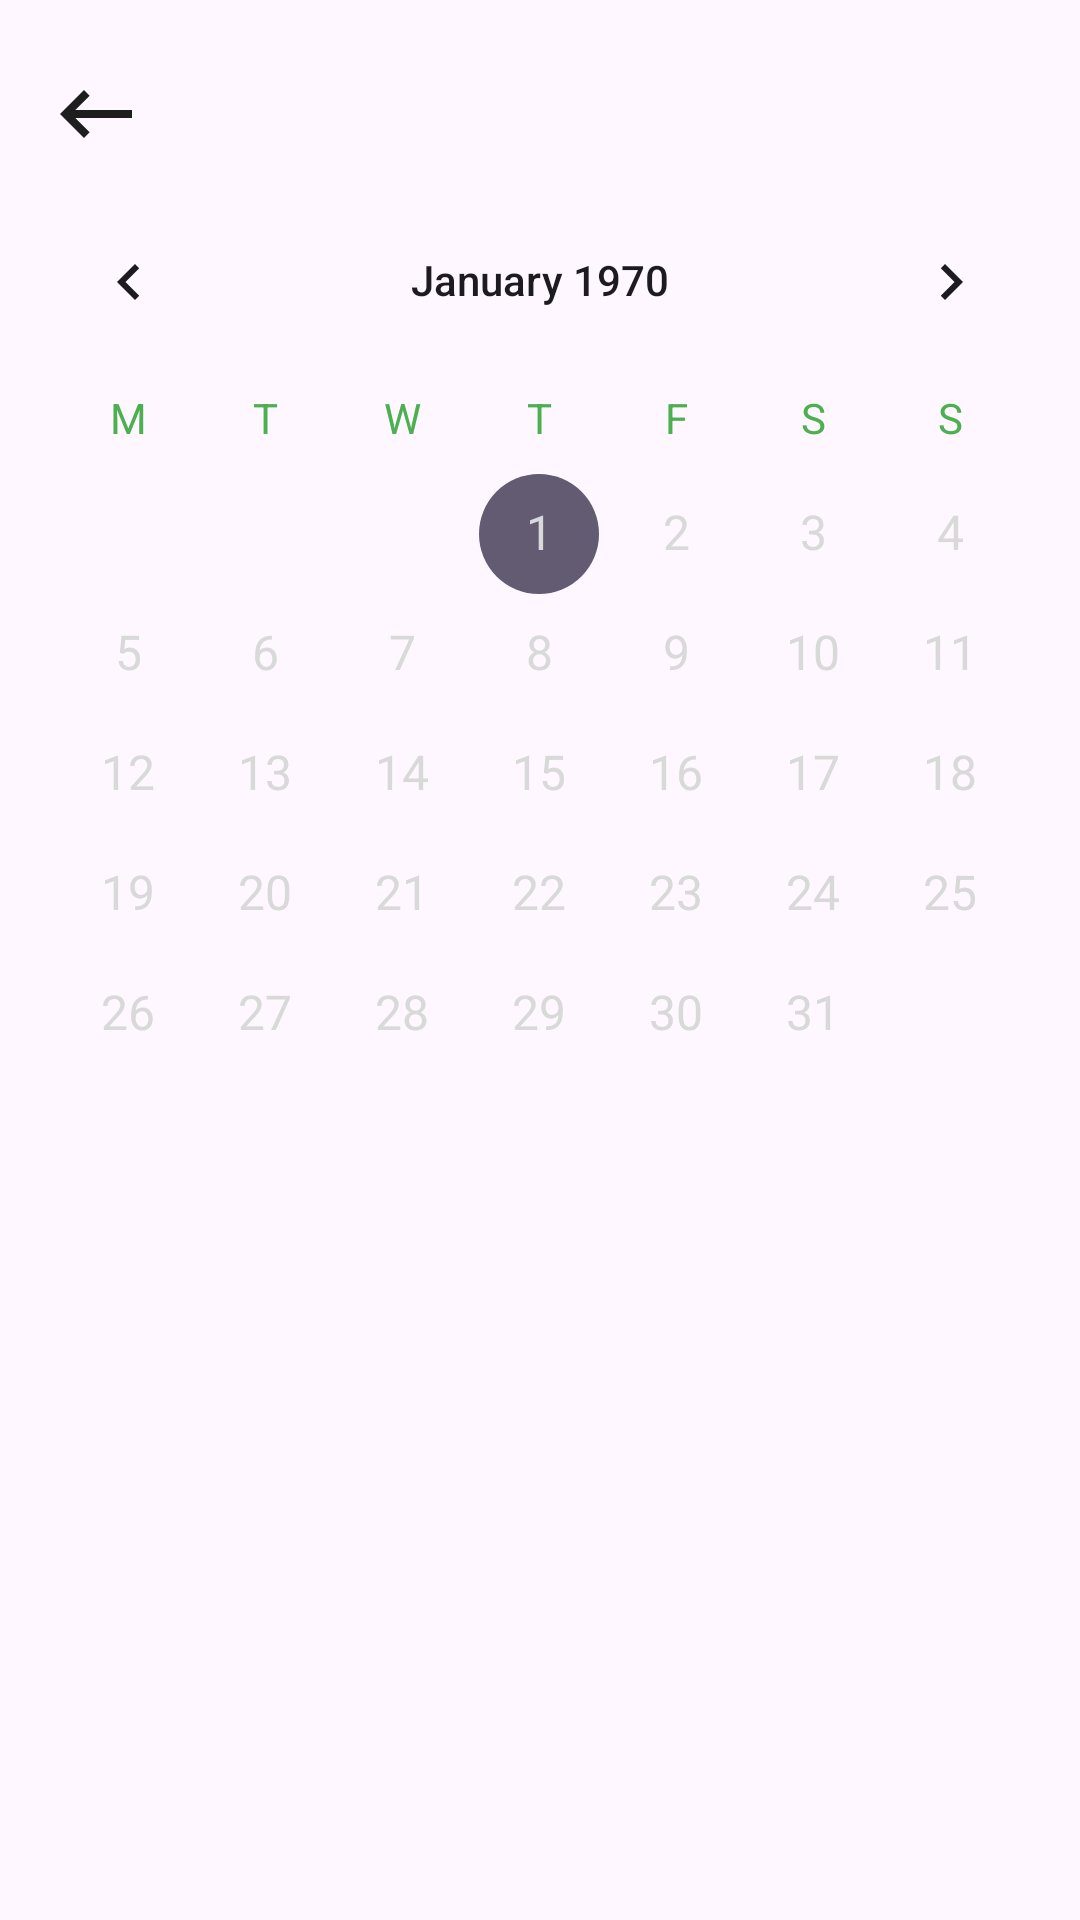

Screen size 1080px×1920px. Icon name, then its center in pixels as [x,y]:
Tombol Kembali: [96,114]
